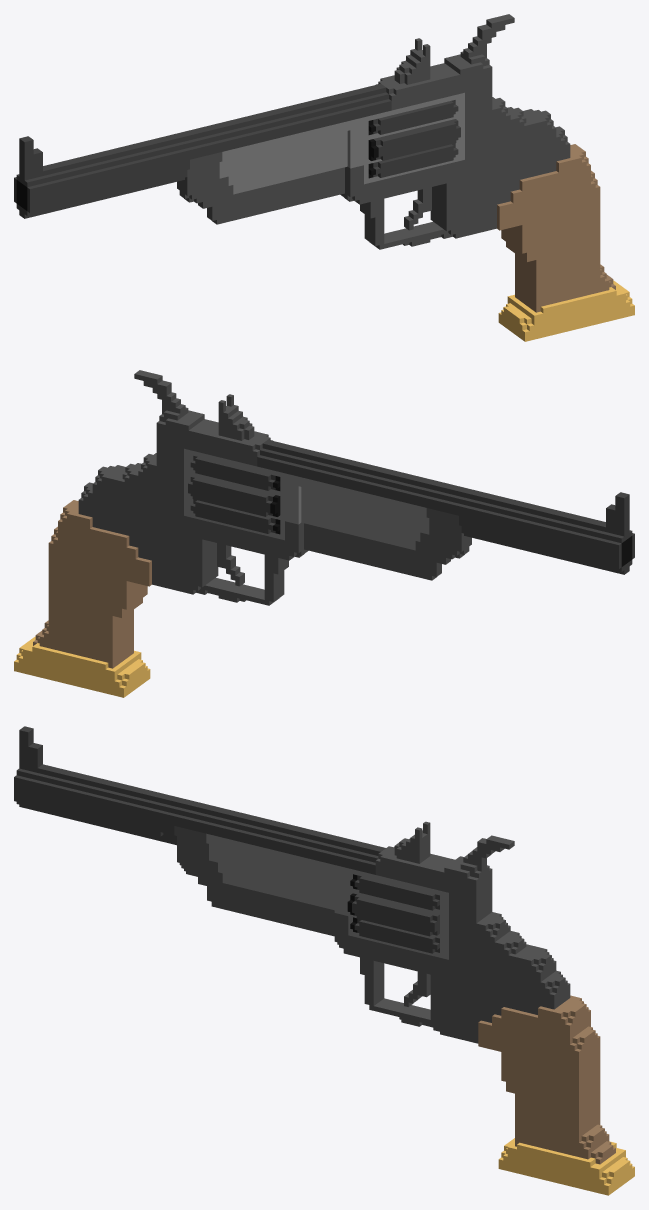
The model's file is Revolver.obj.
3 renders of one model, top to bottom at view 1: azimuth 30°, elevation 25°; view 2: azimuth 150°, elevation 25°; view 3: azimuth 330°, elevation 25°, orthographic.
Size of the model in its own units: 13.1 by 6.6 by 1.
